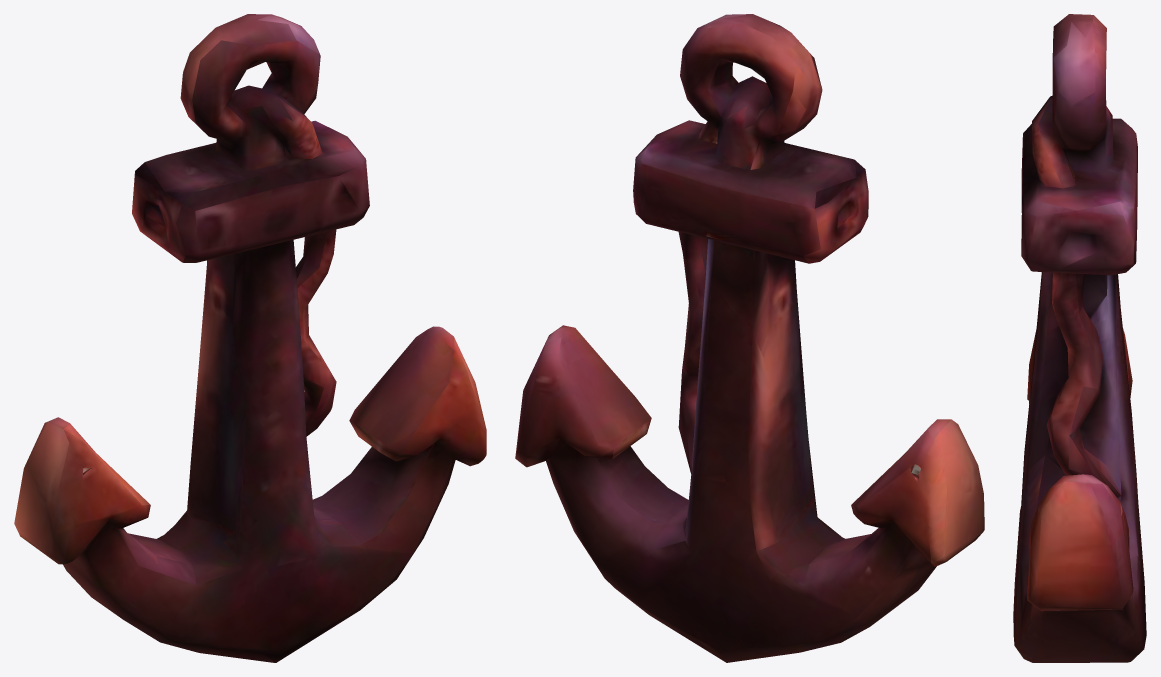
Rendered from lg-anchor.glb.
3 renders of one model, left to right at view 1: azimuth 30°, elevation 25°; view 2: azimuth 150°, elevation 25°; view 3: azimuth 270°, elevation 25°, orthographic.
Parts seen in each view (by area): view 1: geometry_0; view 2: geometry_0; view 3: geometry_0.
Boxes of the visible parts, x1=… form: geometry_0: x1=14, y1=14, x2=486, y2=662; geometry_0: x1=515, y1=14, x2=984, y2=662; geometry_0: x1=1013, y1=14, x2=1146, y2=662.
Bounding box in the file's own units: 0.7167 × 1 × 0.1907.
Materials: 1 (1 with a texture image).
